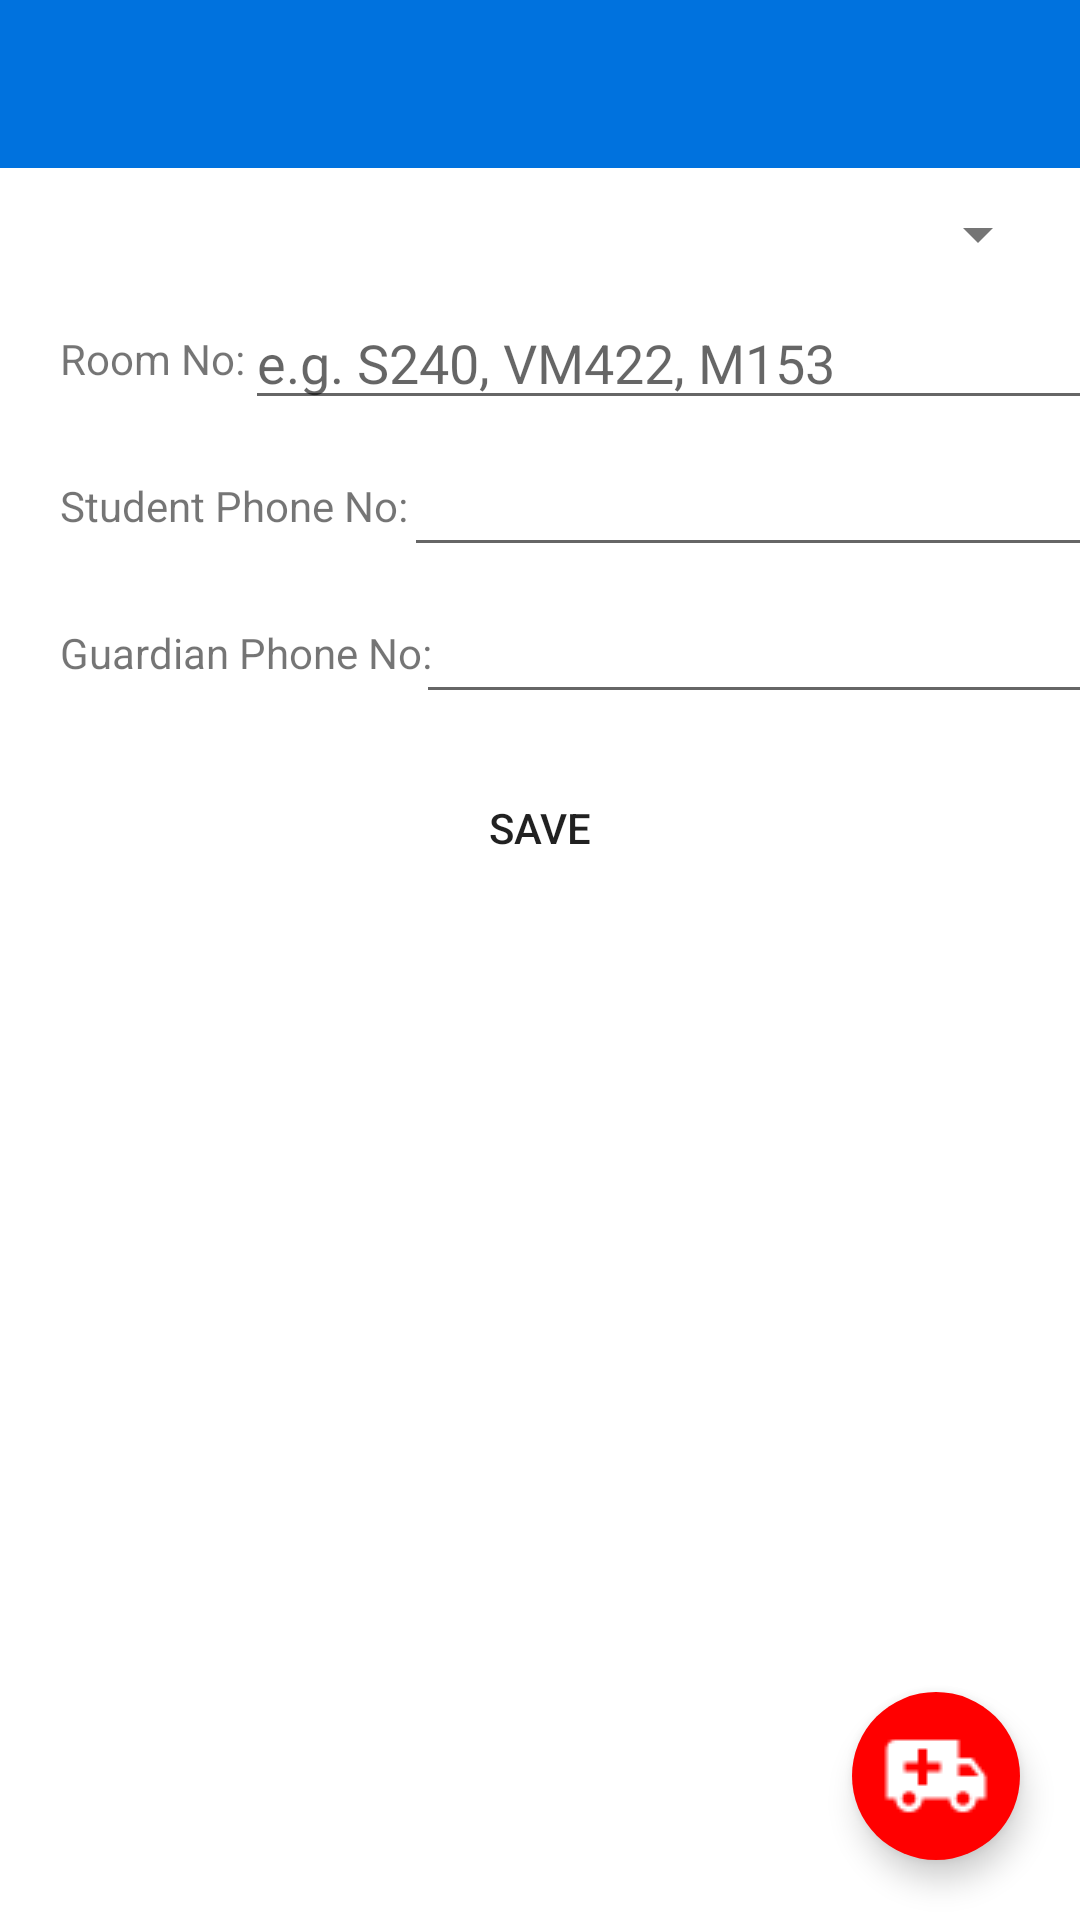

Point at icon controls on the screen. Image size 1080px×1920px, points as (x,y).
SOS: (936,1776)
